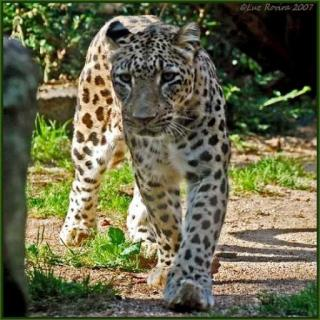Leopard: (52, 10, 257, 312)
